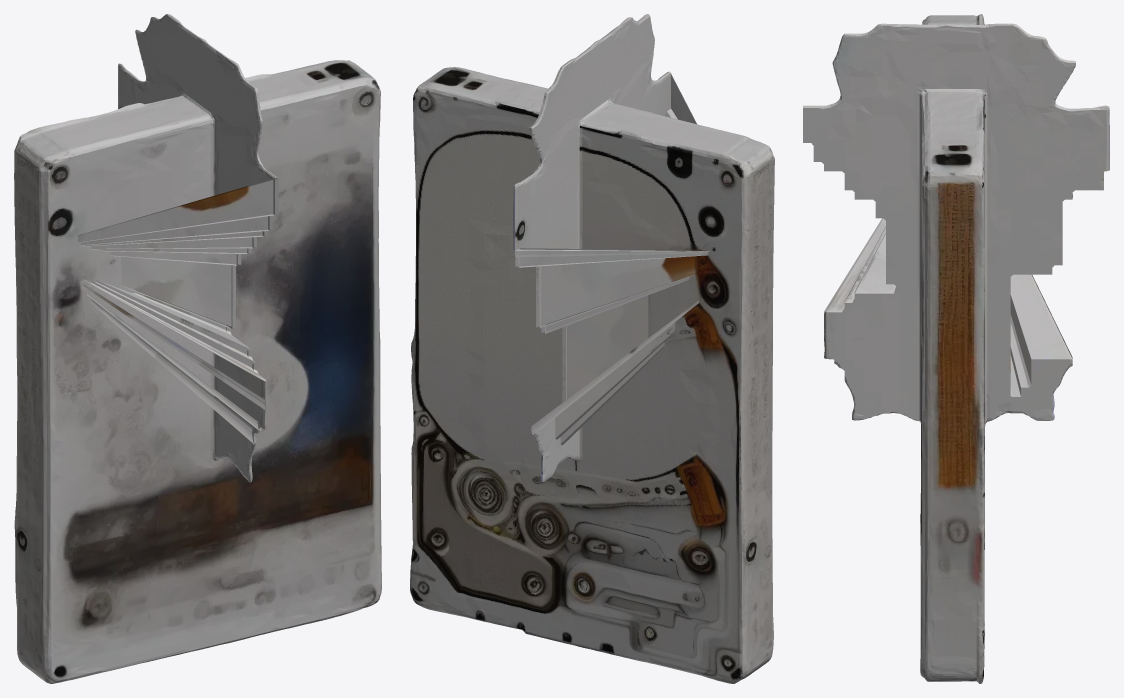
Rendered from chest (147).glb.
3 renders of one model, left to right at view 1: azimuth 30°, elevation 25°; view 2: azimuth 150°, elevation 25°; view 3: azimuth 270°, elevation 25°, orthographic. The views are drawn at different scales.
Visible parts, largest first — view 1: Hy21_Mesh.obj; view 2: Hy21_Mesh.obj; view 3: Hy21_Mesh.obj.
Part boxes in pixels (x1,y1,x2,y2): Hy21_Mesh.obj: [14, 14, 381, 683]; Hy21_Mesh.obj: [410, 14, 774, 683]; Hy21_Mesh.obj: [803, 14, 1109, 683].
Bounding box in the file's own units: 1.17 × 1.96 × 0.9294.
1 material, 1 textured.
